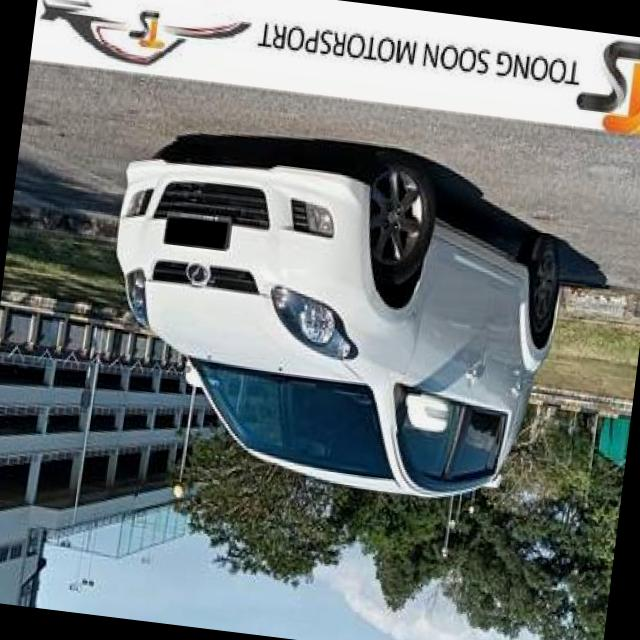PeroduaMyvi: (88, 118, 578, 516)
